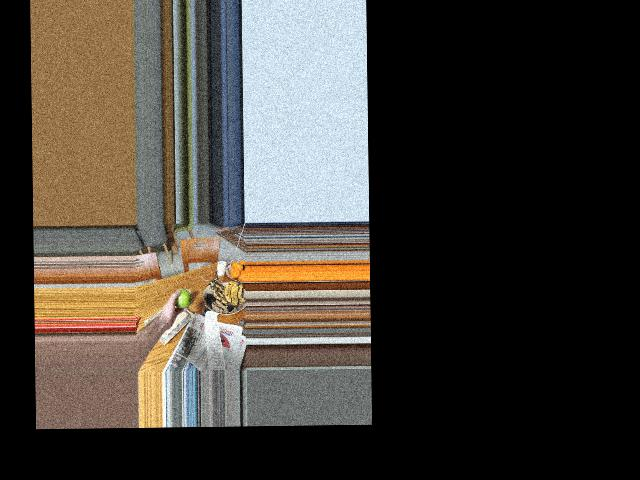apple: (171, 287, 192, 311)
